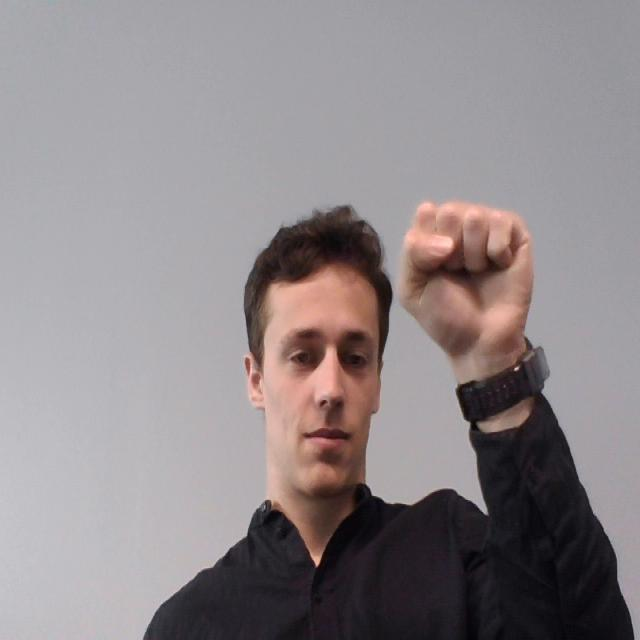stop: (392, 197, 534, 351)
